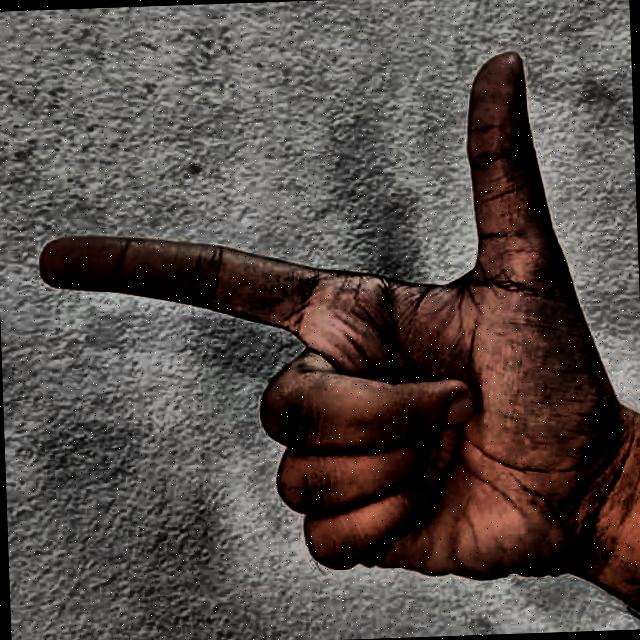Tha: (20, 35, 628, 618)
